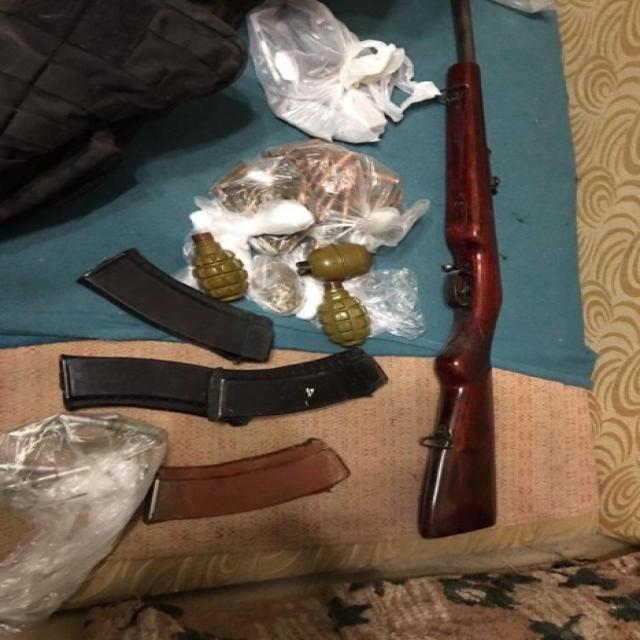firearm: (414, 0, 504, 540)
grenade: (178, 232, 250, 303), (315, 279, 373, 350), (294, 242, 374, 282)
